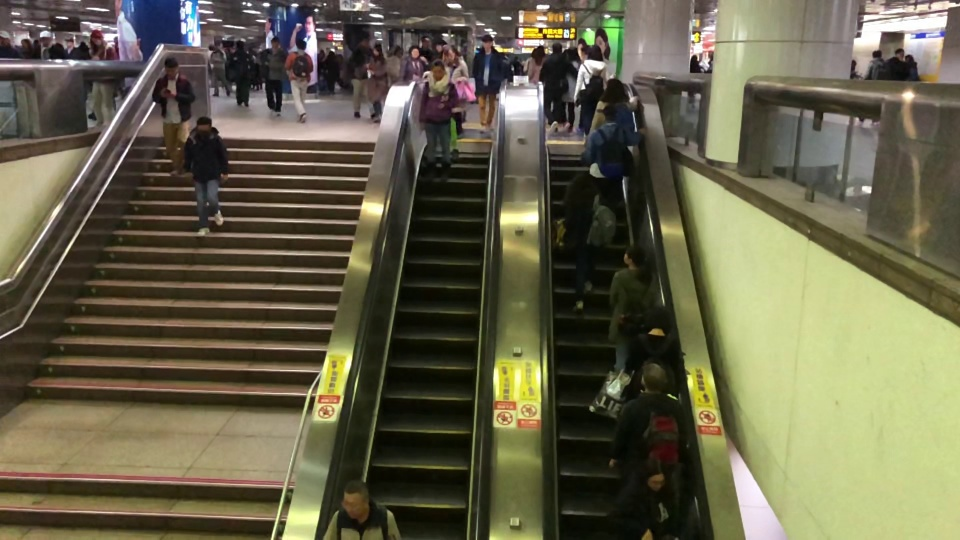person_head: (339, 479, 371, 517), (639, 456, 669, 492), (644, 305, 673, 335), (640, 361, 668, 391), (568, 171, 593, 200), (598, 78, 626, 102), (622, 243, 644, 266), (595, 104, 618, 123), (195, 116, 212, 139), (163, 56, 179, 78), (430, 57, 445, 80), (88, 29, 104, 47), (442, 44, 457, 63), (587, 43, 602, 61), (39, 29, 53, 47), (408, 43, 421, 59), (480, 34, 493, 50), (566, 45, 579, 61), (295, 38, 307, 52), (420, 35, 432, 49), (893, 48, 905, 61), (371, 43, 382, 57), (551, 42, 563, 54), (359, 35, 370, 48), (535, 44, 546, 57), (271, 35, 281, 48), (872, 49, 883, 59), (235, 39, 244, 51)
person_vbox: (609, 362, 688, 476), (608, 241, 665, 377), (561, 172, 616, 312), (581, 105, 648, 209), (624, 306, 683, 405), (152, 57, 197, 176), (184, 117, 229, 236), (618, 458, 679, 540), (322, 479, 402, 540), (419, 59, 458, 182), (572, 45, 615, 147), (538, 41, 579, 135), (584, 77, 638, 147), (86, 30, 119, 128), (470, 34, 502, 133), (340, 36, 376, 118), (439, 45, 469, 138), (255, 37, 287, 118), (285, 40, 314, 123), (360, 43, 387, 123), (558, 47, 580, 133), (226, 41, 253, 107), (399, 45, 430, 80), (525, 45, 548, 83), (34, 30, 62, 60), (885, 49, 911, 81), (863, 48, 887, 80)
